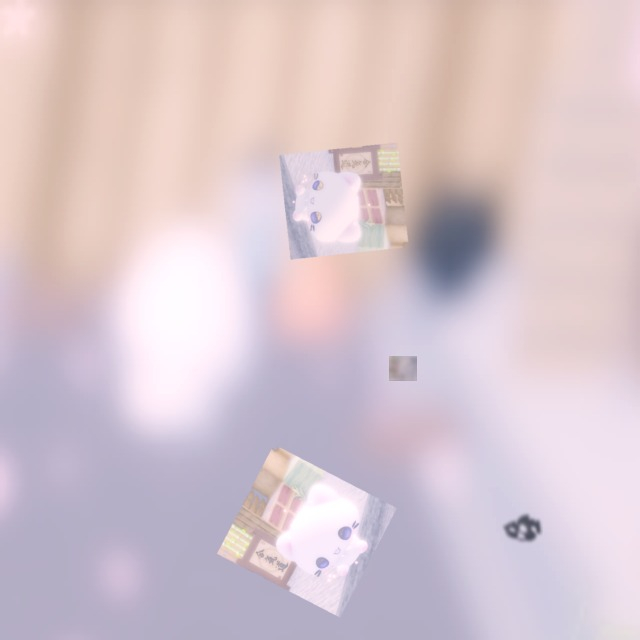urso_branco: (217, 444, 397, 618), (279, 142, 409, 260), (389, 356, 417, 381)
urso_preto: (499, 511, 543, 547)
